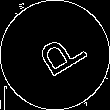P_SW: (24, 26, 86, 84)
